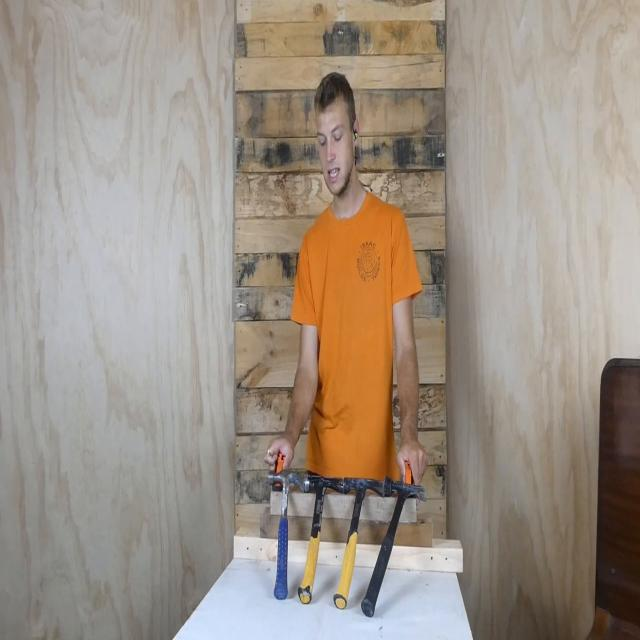hammer: (358, 474, 427, 620), (329, 473, 383, 613), (262, 468, 310, 606), (294, 473, 340, 609)
